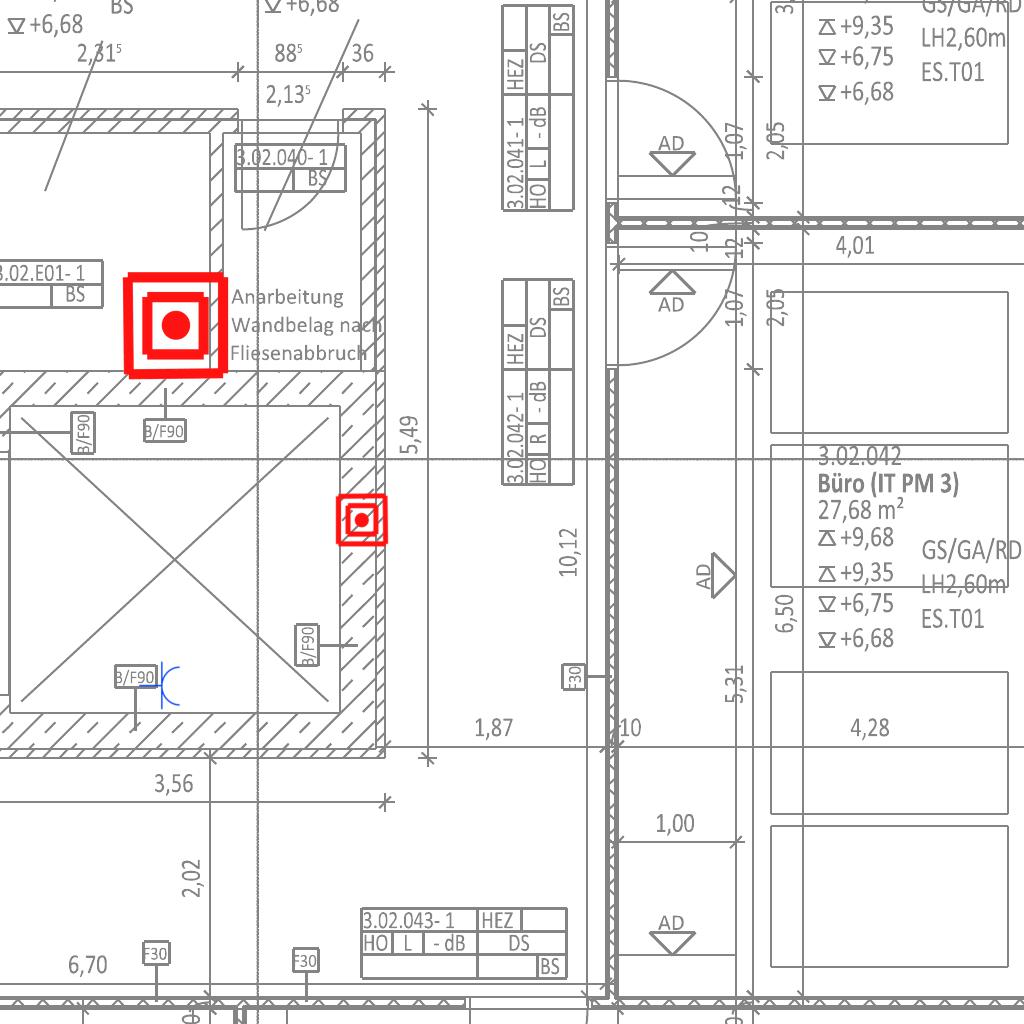NAM-Nichtautomatischer_Melder: (119, 269, 232, 382), (334, 492, 390, 548)
Schukosteckdose_einfach: (139, 661, 182, 711)
